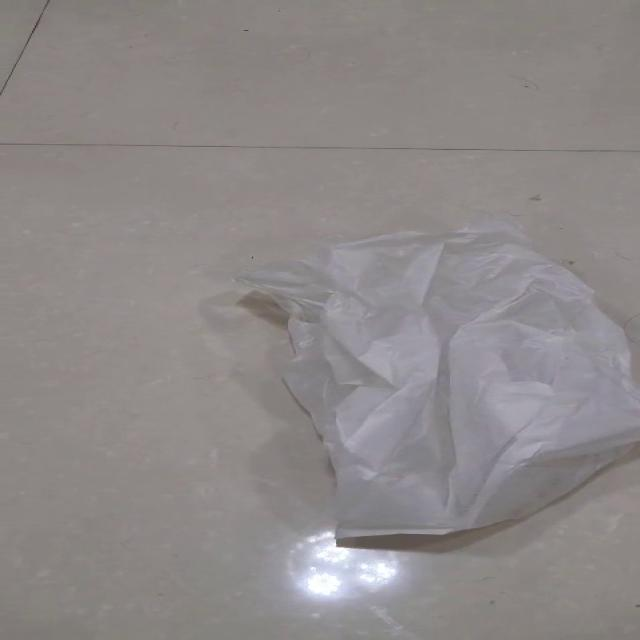plastic: (230, 218, 639, 542)
